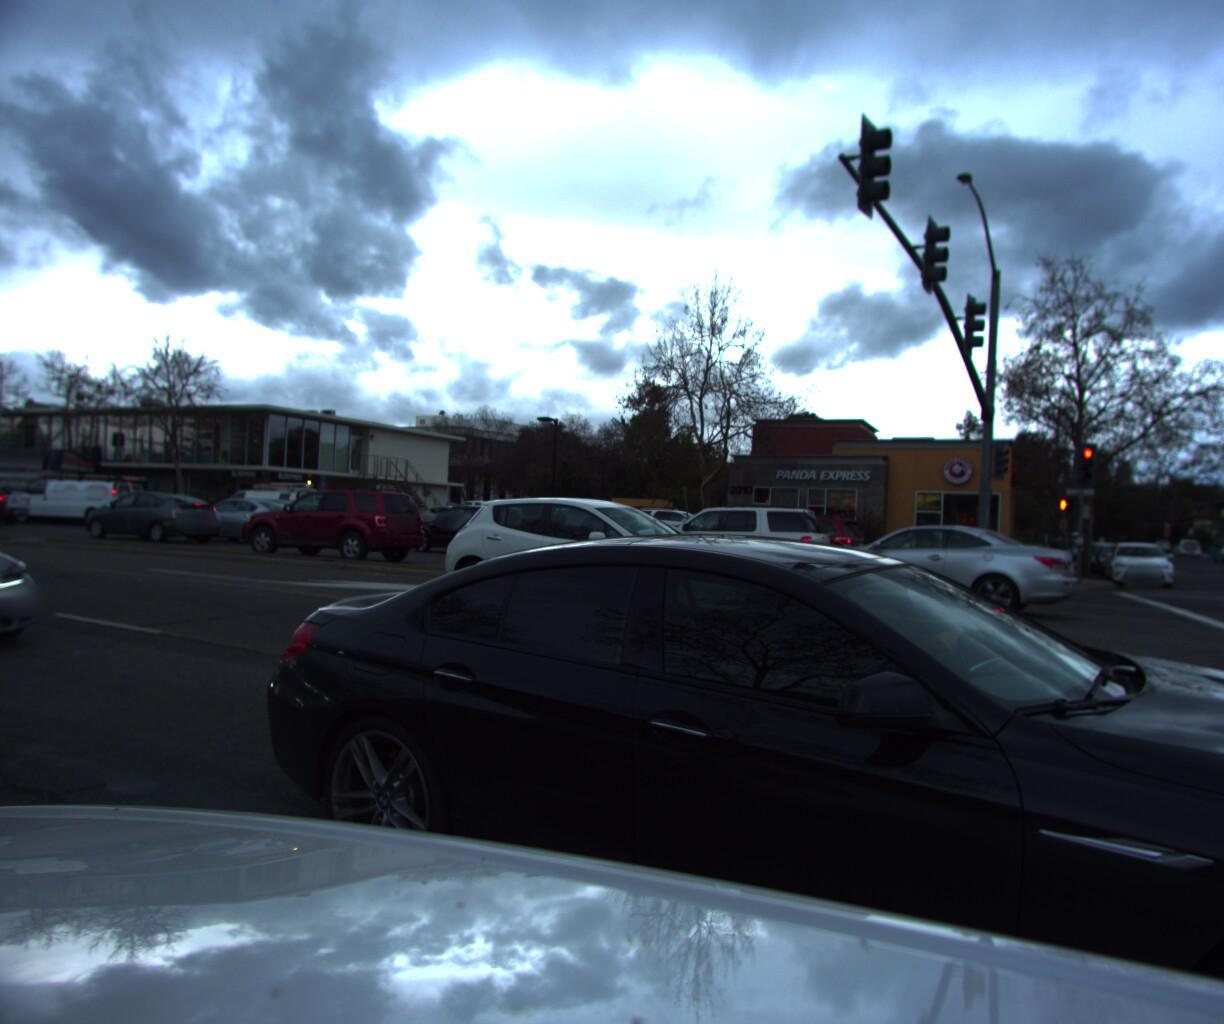bus: (0, 472, 154, 536), (0, 453, 109, 532)
car: (227, 502, 1224, 1024), (431, 491, 784, 638), (776, 518, 1090, 631), (623, 499, 850, 590), (0, 488, 81, 706), (226, 484, 434, 568), (729, 511, 916, 586), (77, 492, 235, 552), (402, 504, 549, 563), (204, 480, 339, 543), (167, 499, 318, 551), (1097, 537, 1177, 590), (1091, 539, 1149, 583), (0, 478, 43, 532), (1157, 535, 1201, 557), (0, 477, 16, 536), (1220, 538, 1224, 578)
